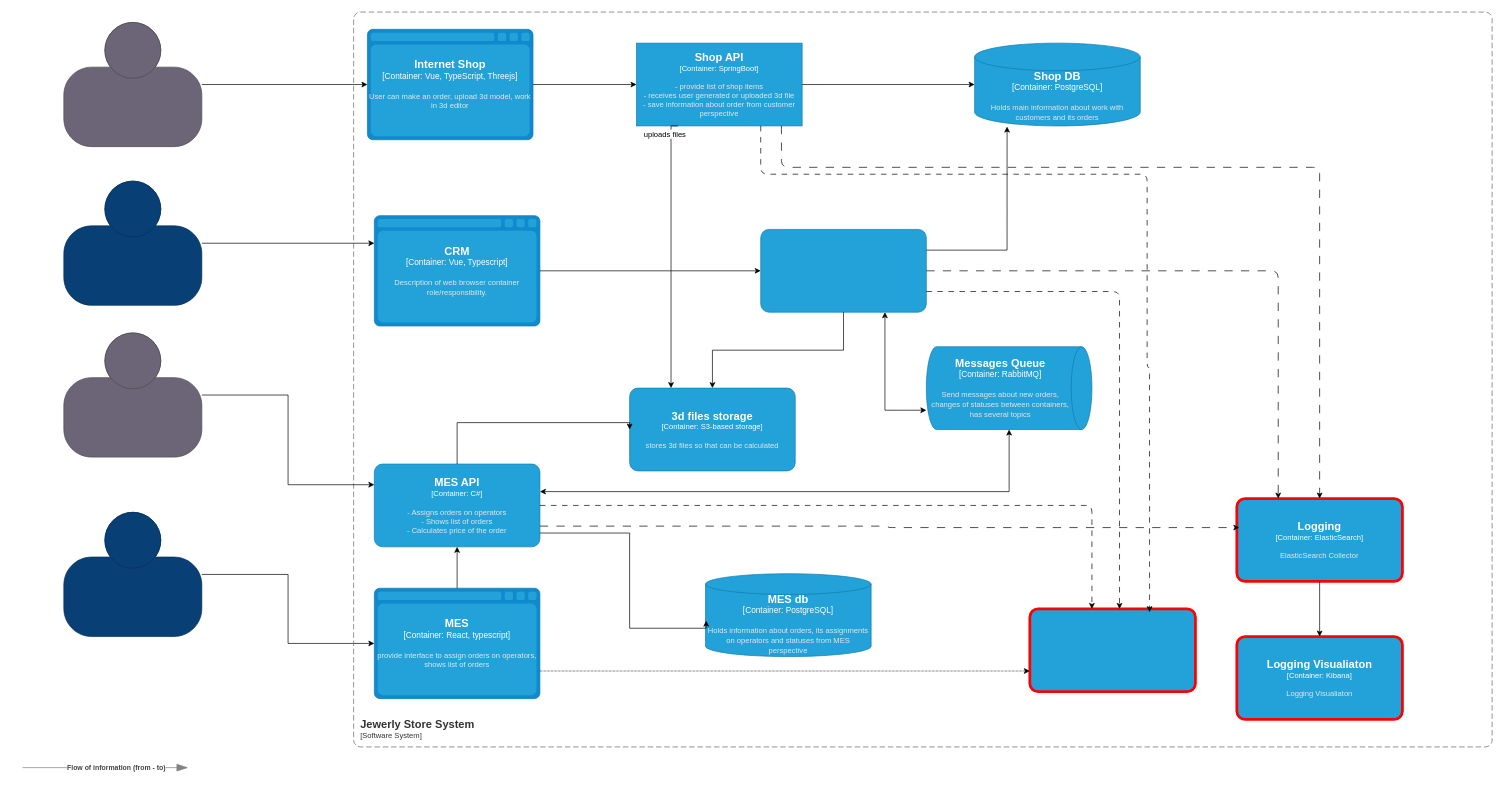
This 1504x791 diagram has some shape labels left out. Each missing label, with the centre of its shape:
API user [Person] Description of external person.: (x=132, y=394)
CRM API [Container: SpringBoot] Description of container role/responsibility.: (x=843, y=270)
Customer [Person] Description of external person.: (x=132, y=84)
Operator [Person] Takes order in work, manufactures jewerly: (x=132, y=574)
Seller [Person] Operates with order, confirms manufacturing for the user: (x=132, y=242)
Tracing [Container: Jaeger] Jaeger Collector для сбора трейсов: (x=1112, y=650)
